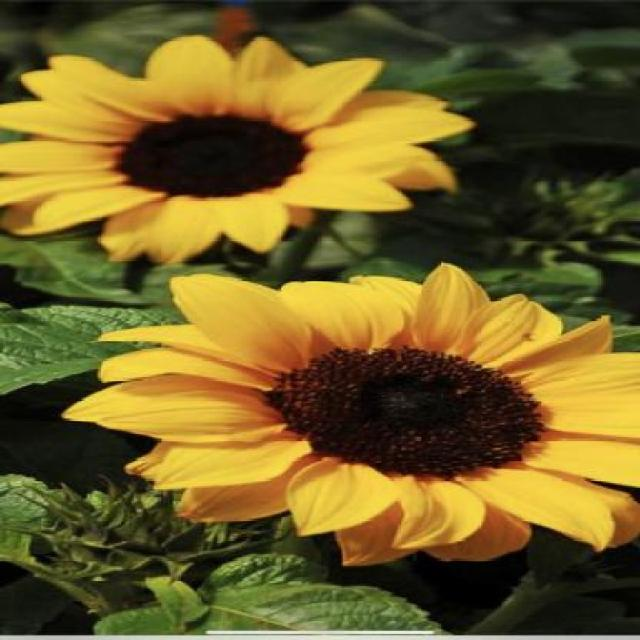sunflower: (57, 260, 640, 568), (0, 28, 479, 261)
